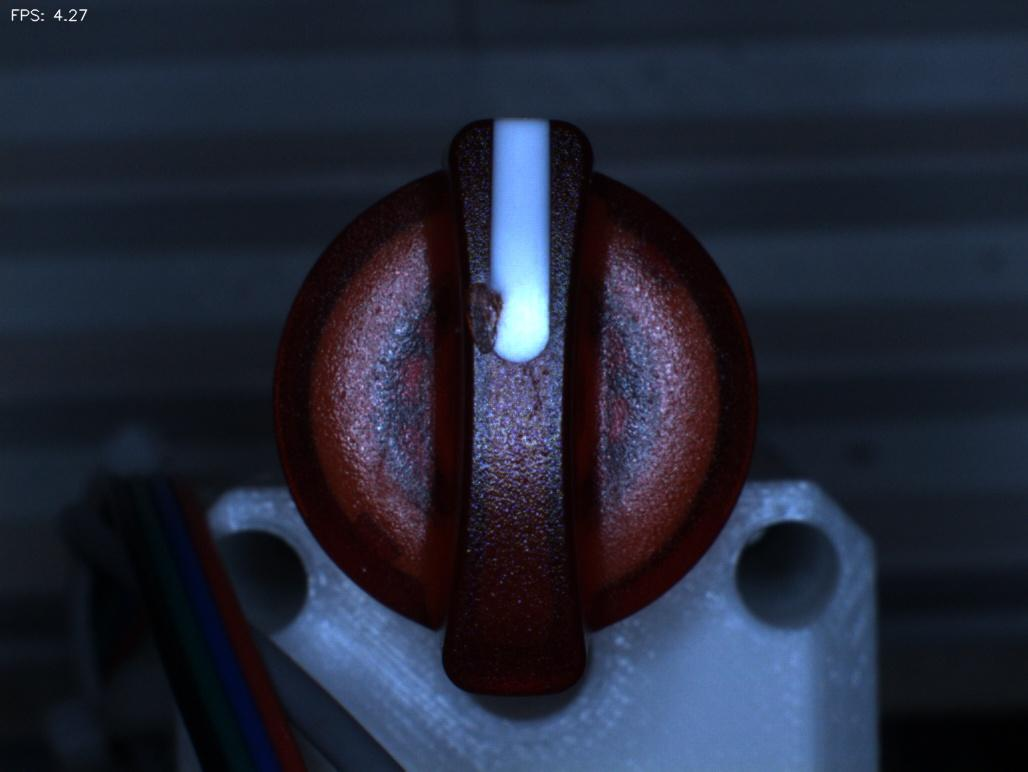Choc: (446, 250, 543, 371)
